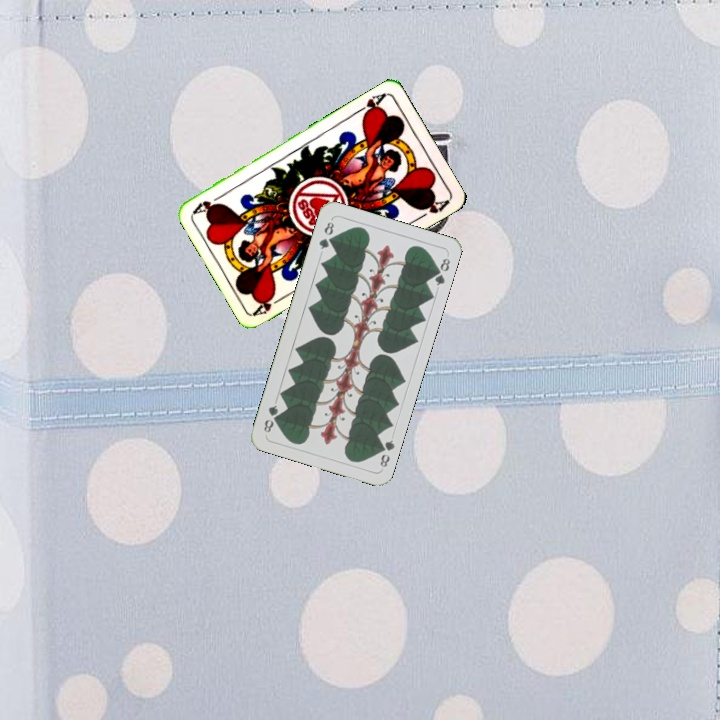G8: (315, 216, 337, 252), (374, 436, 397, 470)
HA: (352, 89, 388, 120), (250, 290, 288, 318)
